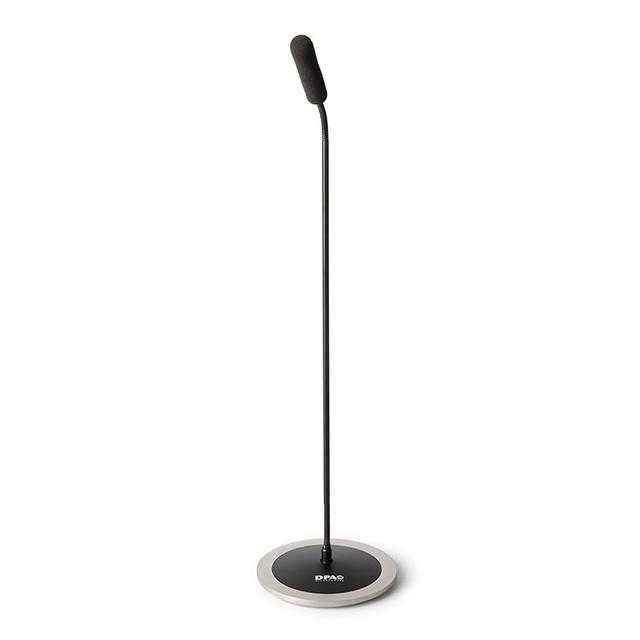microphone: (291, 32, 333, 139)
